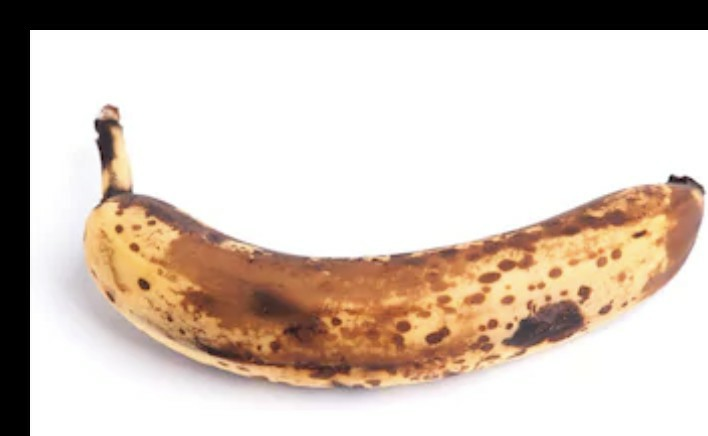rotten_banana: (86, 114, 700, 386)
